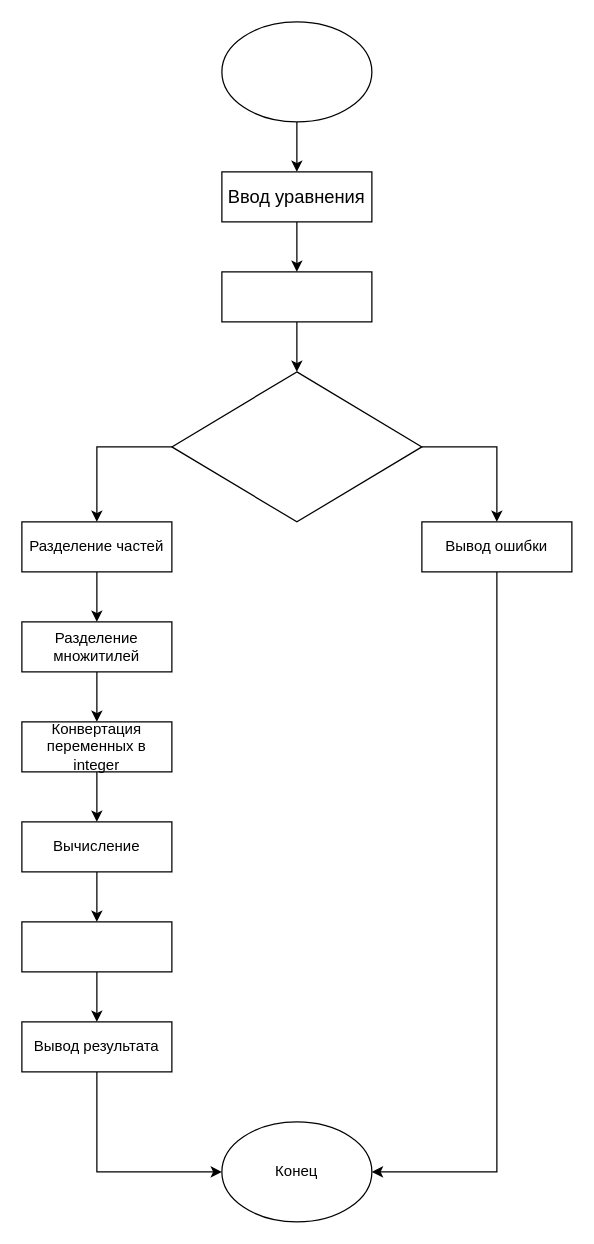
The diagram is 594 pixels wide and 1244 high, and some of its shapes have lost their labels. Each missing label, with the box of its shape:
Возврат результата: (21, 921, 172, 972)
Начало: (221, 21, 372, 122)
Проверка наличия знака оператора '*': (171, 371, 422, 522)
Форматирование: (221, 271, 372, 322)
